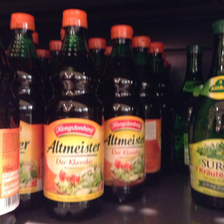vinegar: (45, 7, 108, 222), (106, 25, 150, 204), (7, 13, 45, 210), (192, 19, 224, 204)
